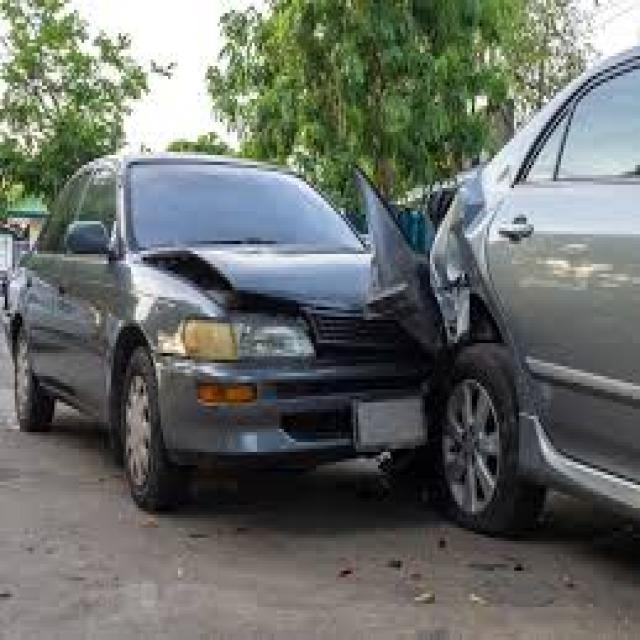accident: (103, 125, 608, 548)
